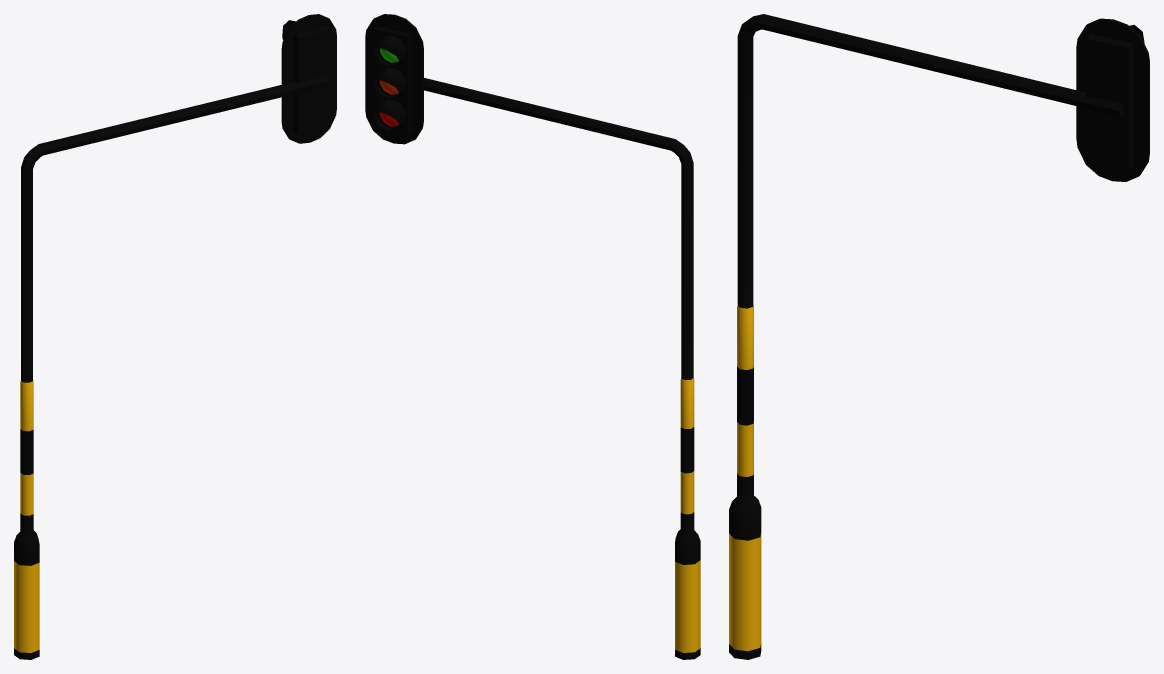
The model's file is trafficlight4.FBX.
3 views of the same model, side by side, from view 1: azimuth 30°, elevation 25°; view 2: azimuth 150°, elevation 25°; view 3: azimuth 330°, elevation 25° (orthographic). The views are drawn at different scales.
Visible parts, largest first — view 1: Cylinder006; view 2: Cylinder006; view 3: Cylinder006.
Boxes of the visible parts, x1=… form: Cylinder006: x1=14, y1=14, x2=336, y2=659; Cylinder006: x1=365, y1=14, x2=700, y2=659; Cylinder006: x1=729, y1=14, x2=1149, y2=659.
Bounding box in the file's own units: 281 × 470 × 43.38.
